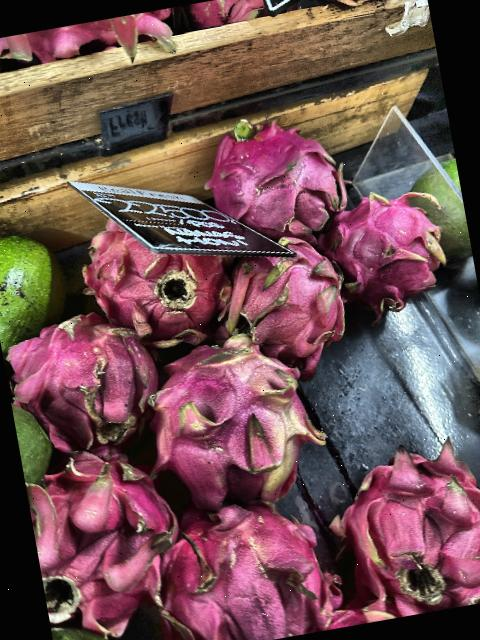buah-naga-belum-matang: (128, 320, 337, 512)
buah-naga-matang: (142, 470, 353, 640), (319, 423, 480, 625), (22, 443, 188, 633), (74, 190, 234, 350), (0, 303, 156, 455), (194, 108, 356, 250), (209, 227, 362, 375), (312, 182, 461, 321)
